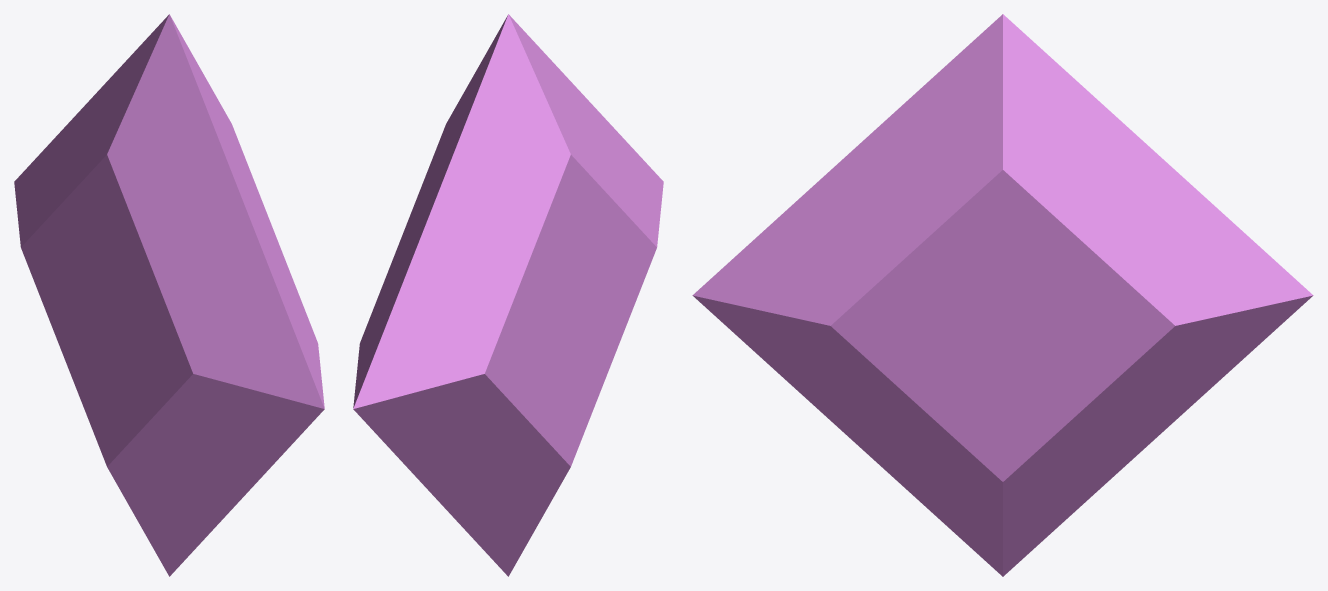
Rendered from Opal.fbx.
3 views of the same model, side by side, from view 1: azimuth 30°, elevation 25°; view 2: azimuth 150°, elevation 25°; view 3: azimuth 270°, elevation 25° (orthographic).
Parts seen in each view (by area): view 1: Opal; view 2: Opal; view 3: Opal.
Boxes of the visible parts, x1,y1,x2,y2 form: Opal: (14,14,324,576); Opal: (353,14,663,576); Opal: (692,14,1313,576).
Size of the model in its own units: 27.3 by 118 by 118.
